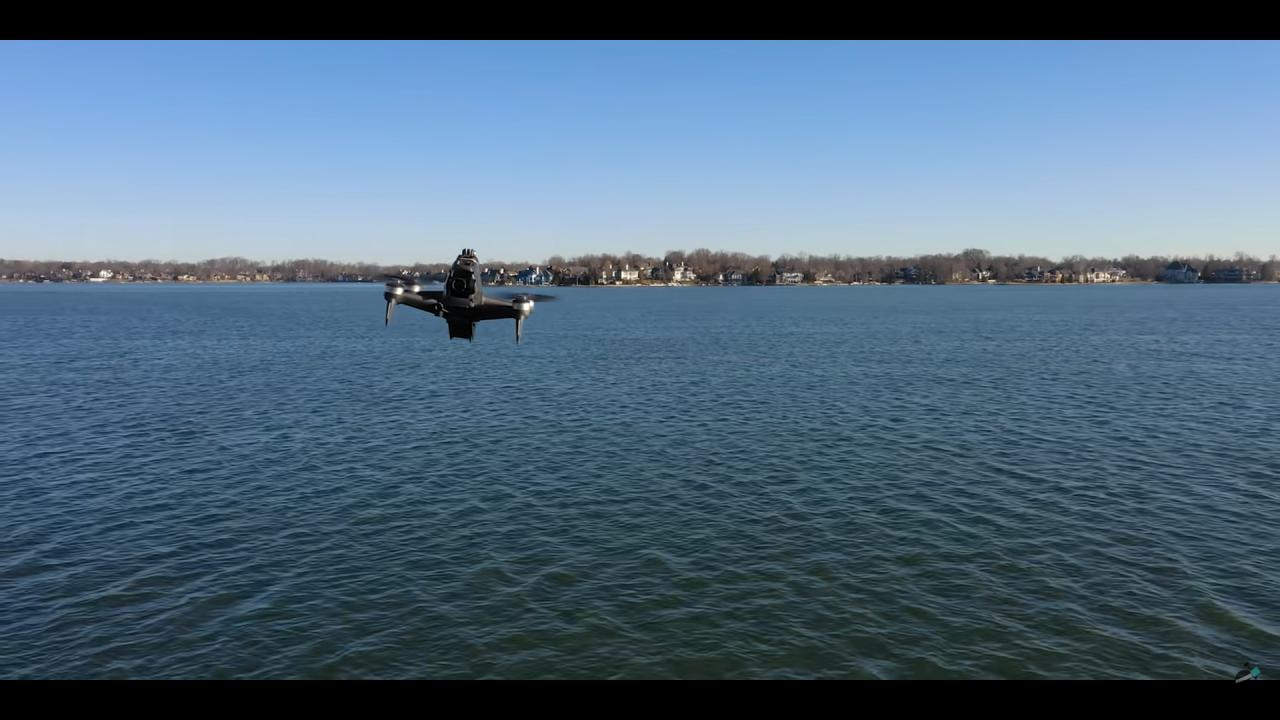Drone: (370, 237, 563, 363)
